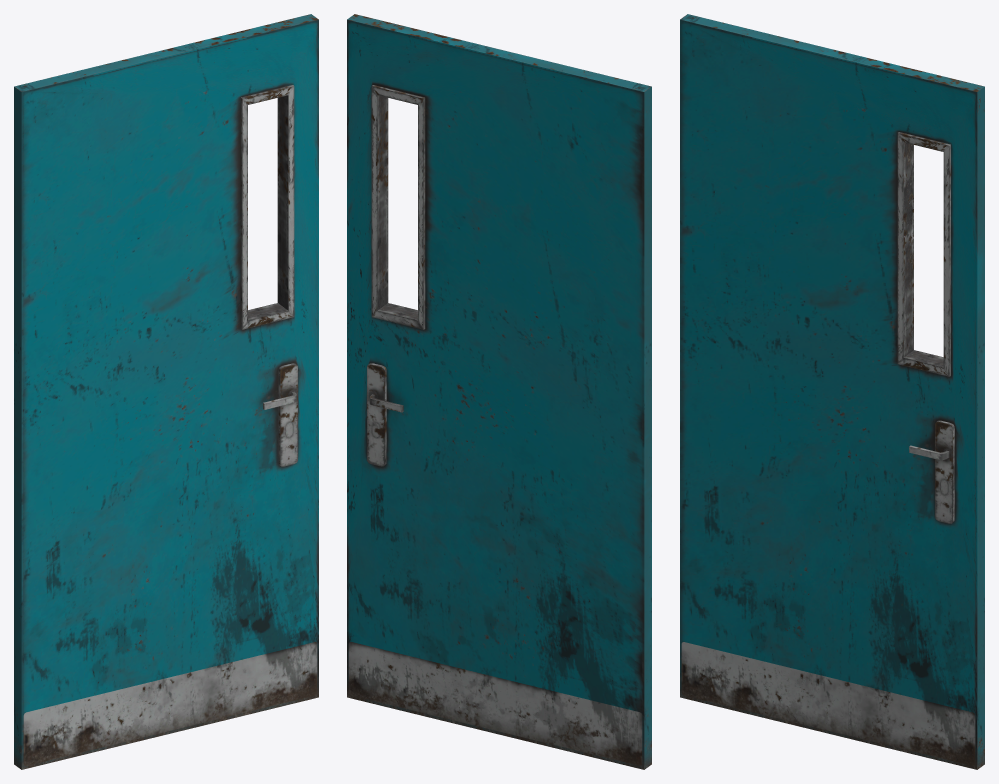
File: SM_Door_A_Blue.glb
The picture shows the model from 3 angles, left to right: view 1: azimuth 30°, elevation 25°; view 2: azimuth 150°, elevation 25°; view 3: azimuth 330°, elevation 25°; orthographic projection.
Visible parts, largest first — view 1: SM_Door_A_Blue; view 2: SM_Door_A_Blue; view 3: SM_Door_A_Blue.
Boxes of the visible parts, box(x1,y1,x2,y2) form: SM_Door_A_Blue: box(14, 14, 318, 769); SM_Door_A_Blue: box(347, 14, 651, 769); SM_Door_A_Blue: box(680, 14, 984, 769).
Size of the model in its own units: 1.12 by 2.44 by 0.1401.
Materials: 2 (2 with a texture image).
